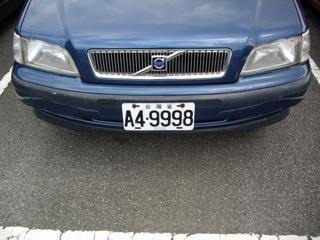plate: (120, 101, 196, 133)
